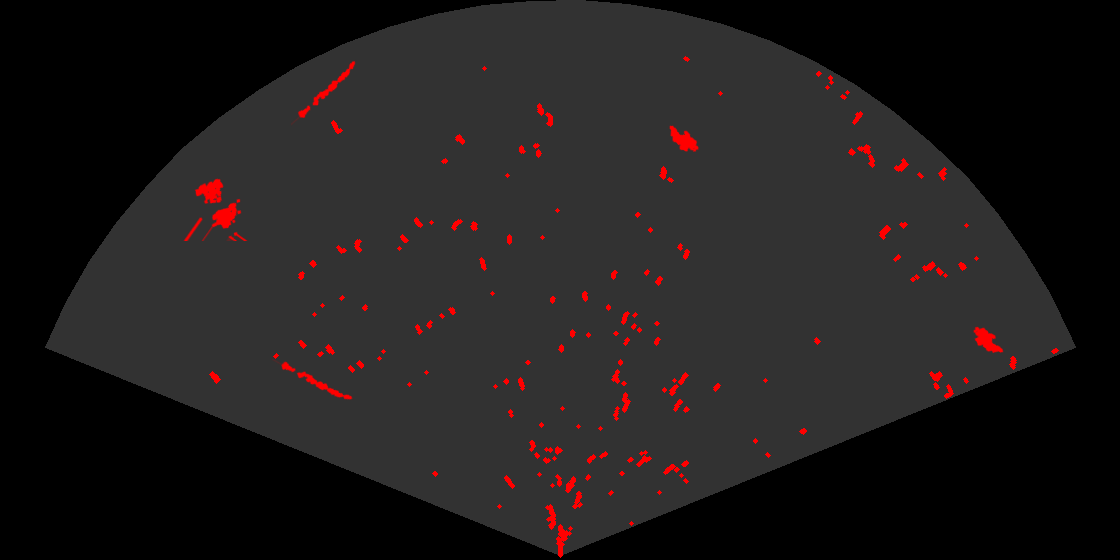AUV: (972, 325, 1005, 355), (668, 124, 700, 153)
cage: (182, 177, 249, 241)
chain: (291, 59, 357, 127), (272, 357, 354, 401)
